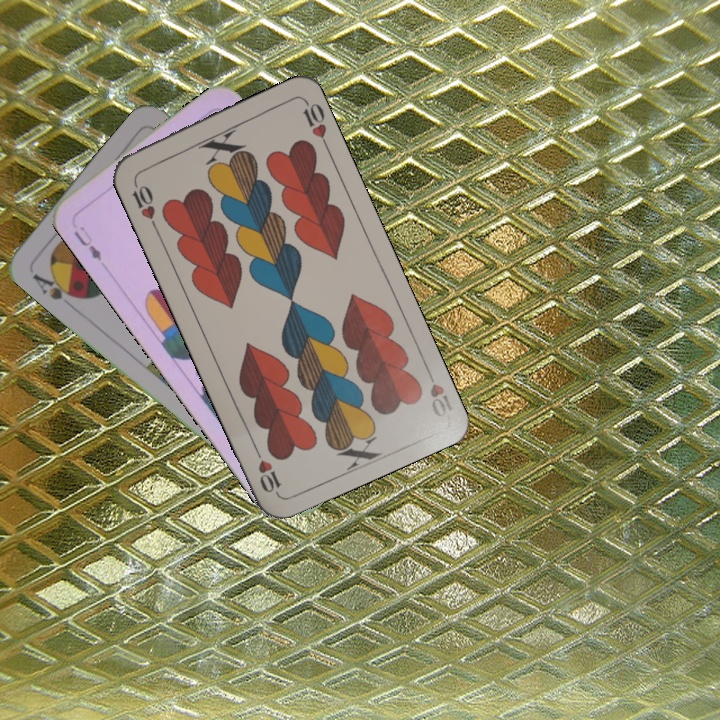EU: (69, 222, 105, 264)
H10: (421, 362, 456, 420), (127, 175, 160, 231)
SA: (28, 267, 82, 303)
